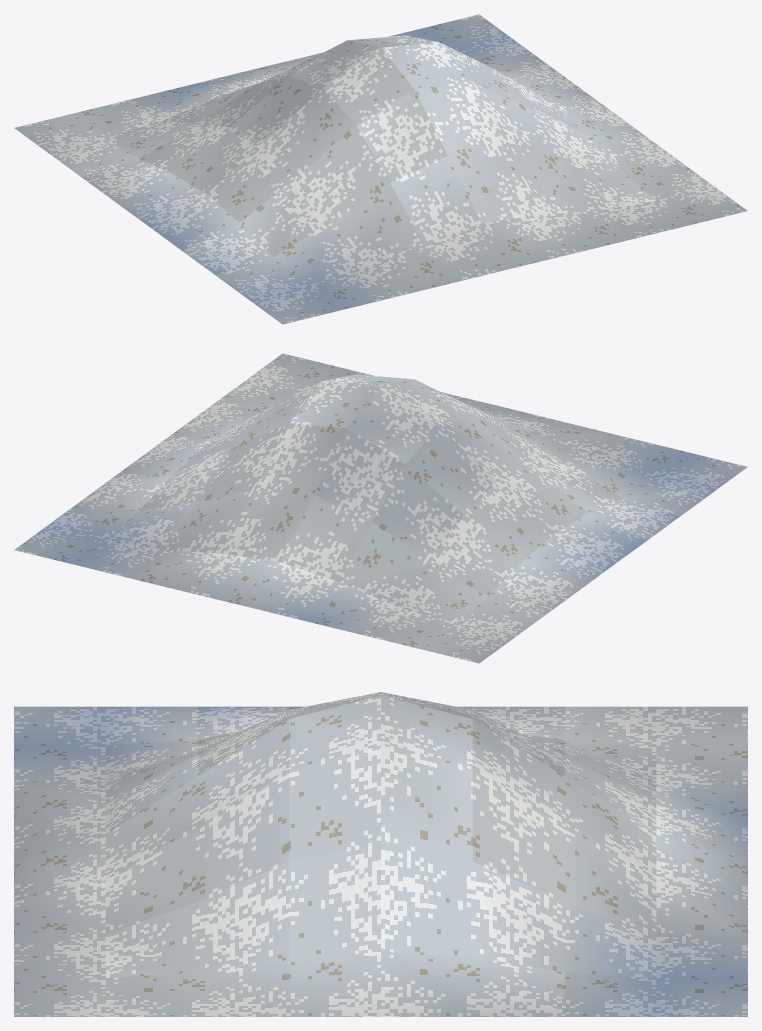
The model's file is mter.hill.glb.
3 renders of one model, top to bottom at view 1: azimuth 30°, elevation 25°; view 2: azimuth 150°, elevation 25°; view 3: azimuth 270°, elevation 25°, orthographic. The views are drawn at different scales.
Visible parts, largest first — view 1: kit_shell_hill; view 2: kit_shell_hill; view 3: kit_shell_hill.
Boxes of the visible parts, x1,y1,x2,y2 form: kit_shell_hill: (14,14,747,324); kit_shell_hill: (14,353,747,663); kit_shell_hill: (14,692,747,1016).
Bounding box in the file's own units: 16 × 4 × 16.
1 material, 1 textured.
